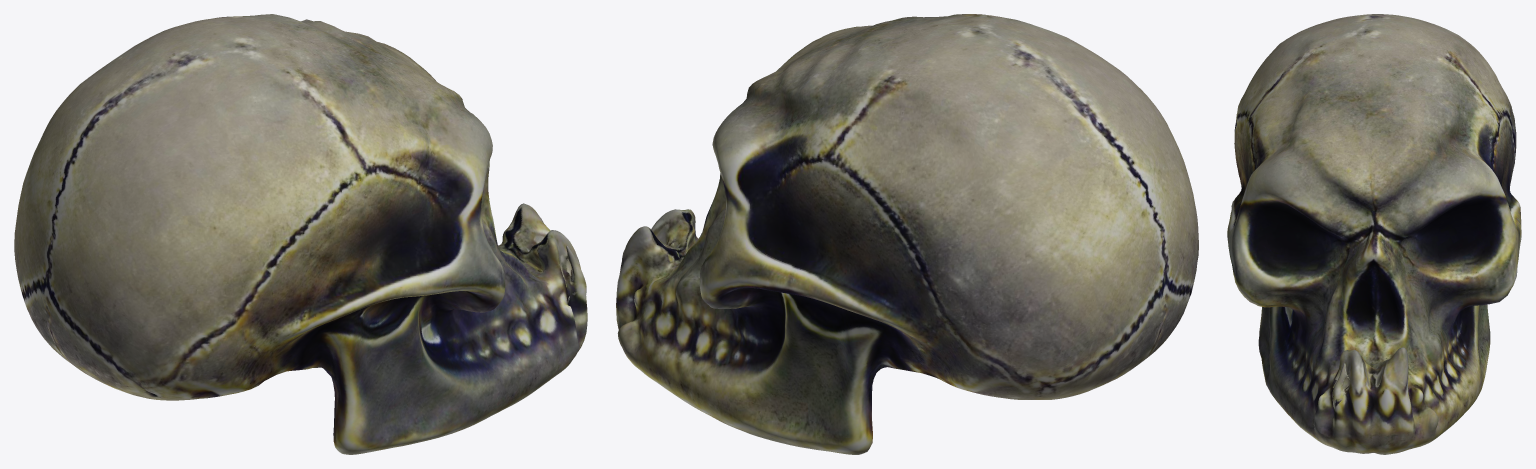
File: e95982f15339_A_goblins_skull_min.fbx
The picture shows the model from 3 angles, left to right: view 1: azimuth 30°, elevation 25°; view 2: azimuth 150°, elevation 25°; view 3: azimuth 270°, elevation 25°; orthographic projection. The views are drawn at different scales.
Visible parts, largest first — view 1: mesh; view 2: mesh; view 3: mesh.
Boxes of the visible parts, x1,y1,x2,y2 form: mesh: (14, 14, 587, 454); mesh: (616, 14, 1198, 454); mesh: (1227, 14, 1521, 454).
Size of the model in its own units: 99.91 by 70.36 by 60.92.
